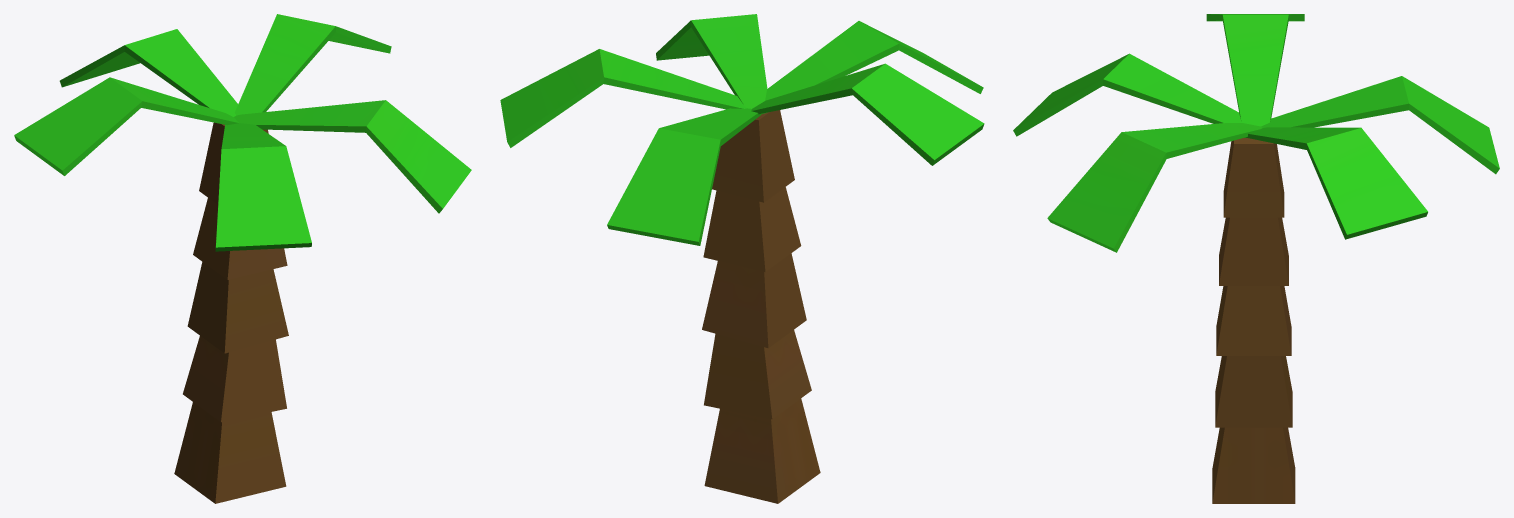
The model's file is Palmier.fbx.
3 renders of one model, left to right at view 1: azimuth 30°, elevation 25°; view 2: azimuth 150°, elevation 25°; view 3: azimuth 270°, elevation 25°, orthographic. The views are drawn at different scales.
Visible parts, largest first — view 1: Palmier; view 2: Palmier; view 3: Palmier.
Boxes of the visible parts, box(x1,y1,x2,y2) form: Palmier: box(14, 14, 471, 503); Palmier: box(500, 14, 984, 503); Palmier: box(1013, 14, 1499, 503).
Size of the model in its own units: 478 by 477 by 500.
